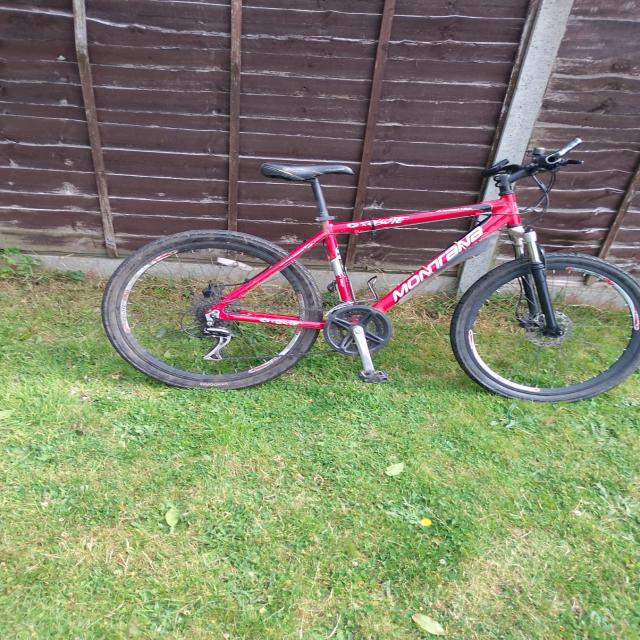bicycle: (98, 131, 640, 418)
